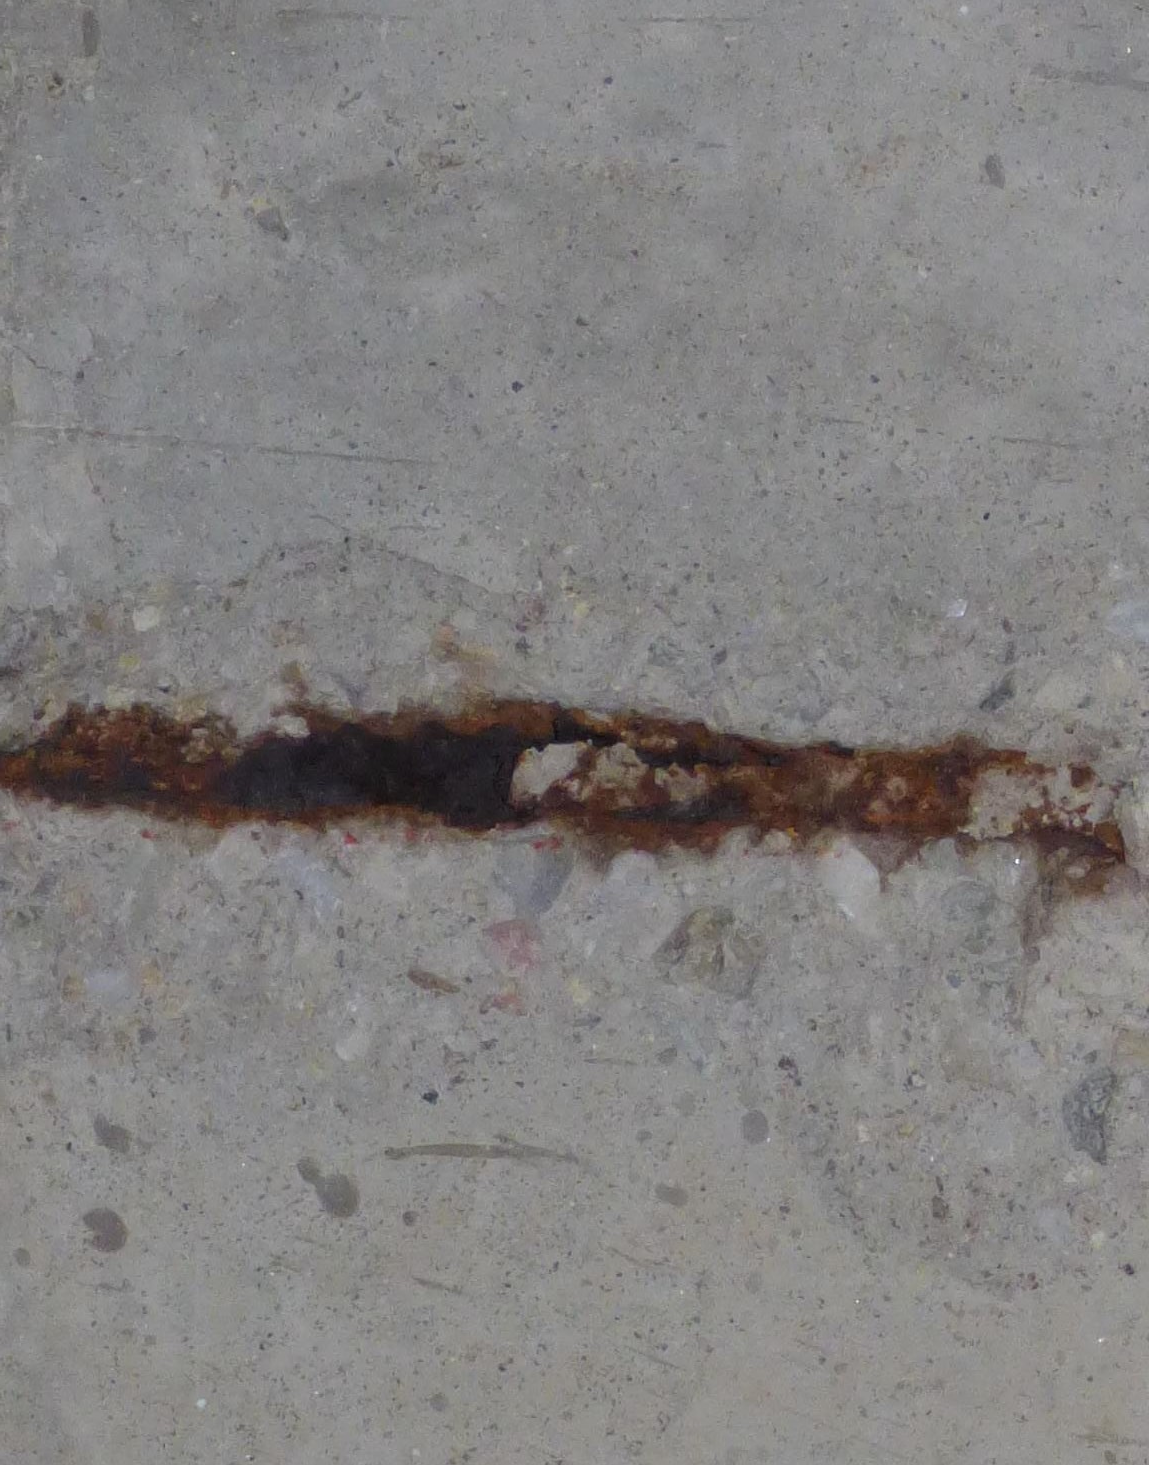Exposed reinforcement: (1, 694, 1149, 900)
